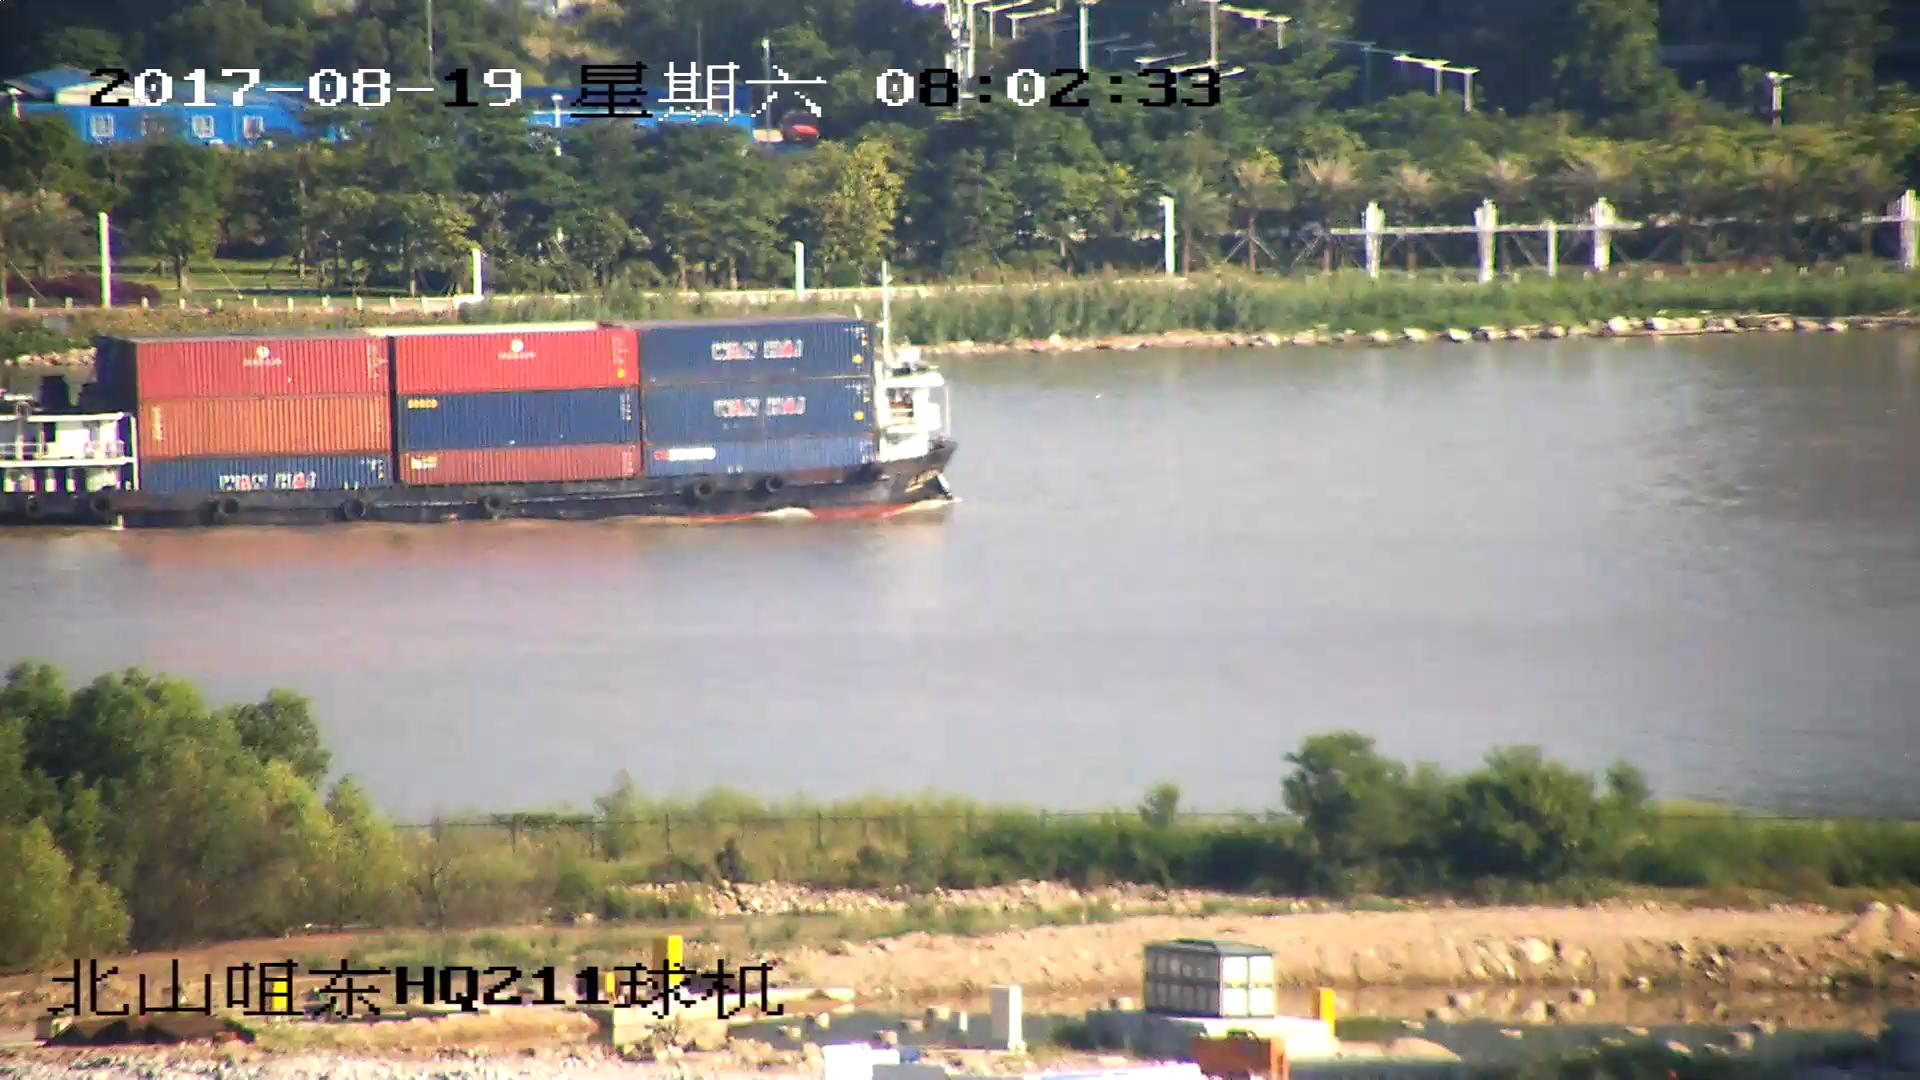container ship: (1, 270, 961, 529)
